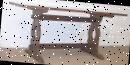Mesa: (3, 0, 129, 64)
